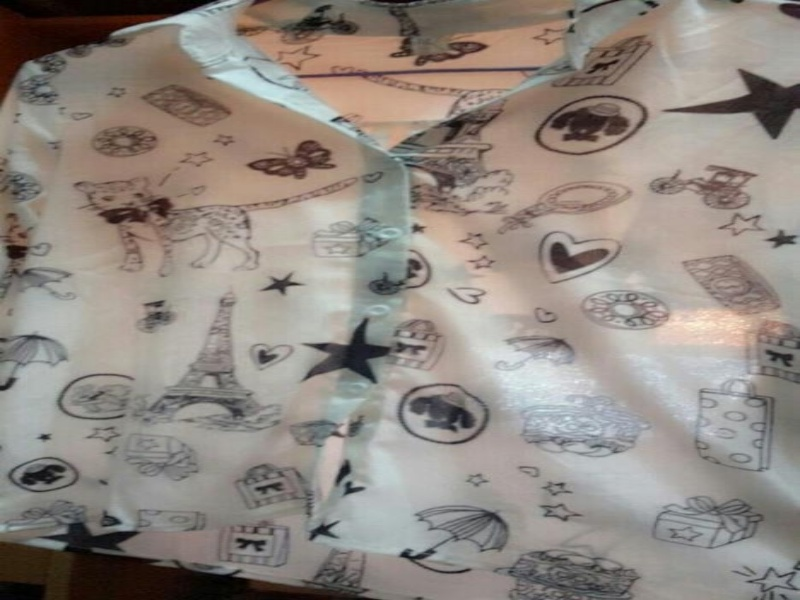long_sleeved_shirt: (2, 0, 793, 599)
